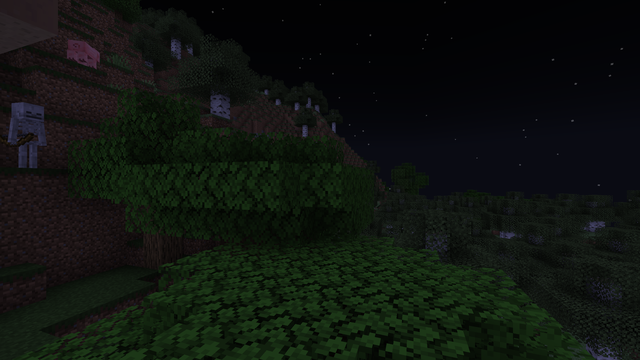cochons: (65, 38, 100, 67)
squelettes: (9, 101, 46, 167)
